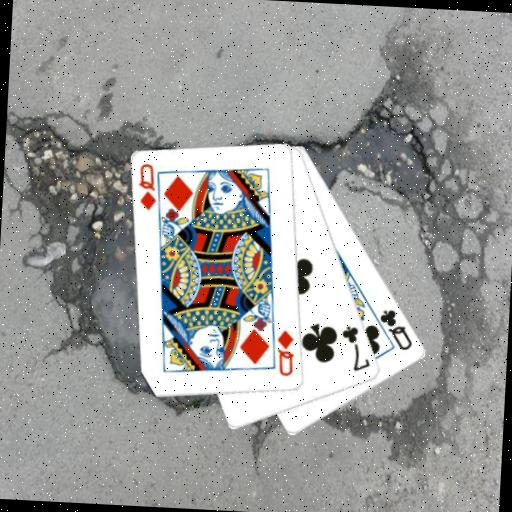7C: (337, 323, 375, 375)
QC: (376, 306, 417, 353)
QD: (134, 160, 160, 213), (273, 327, 298, 379)
